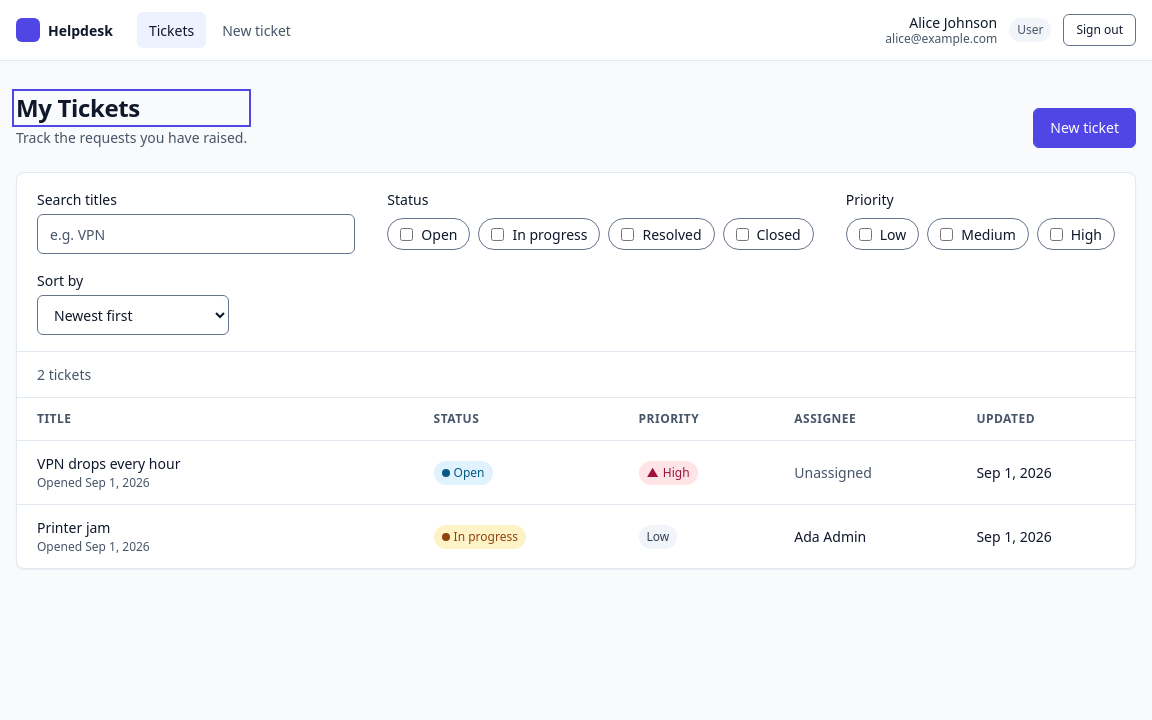
TicketListPage › debounces title search into the URL
expect the link "Printer jam" is shown: met, box [37,518,110,537]
Type "vpn" into the search field labelled "Search titles" at [196, 234], box [37,214,355,254]
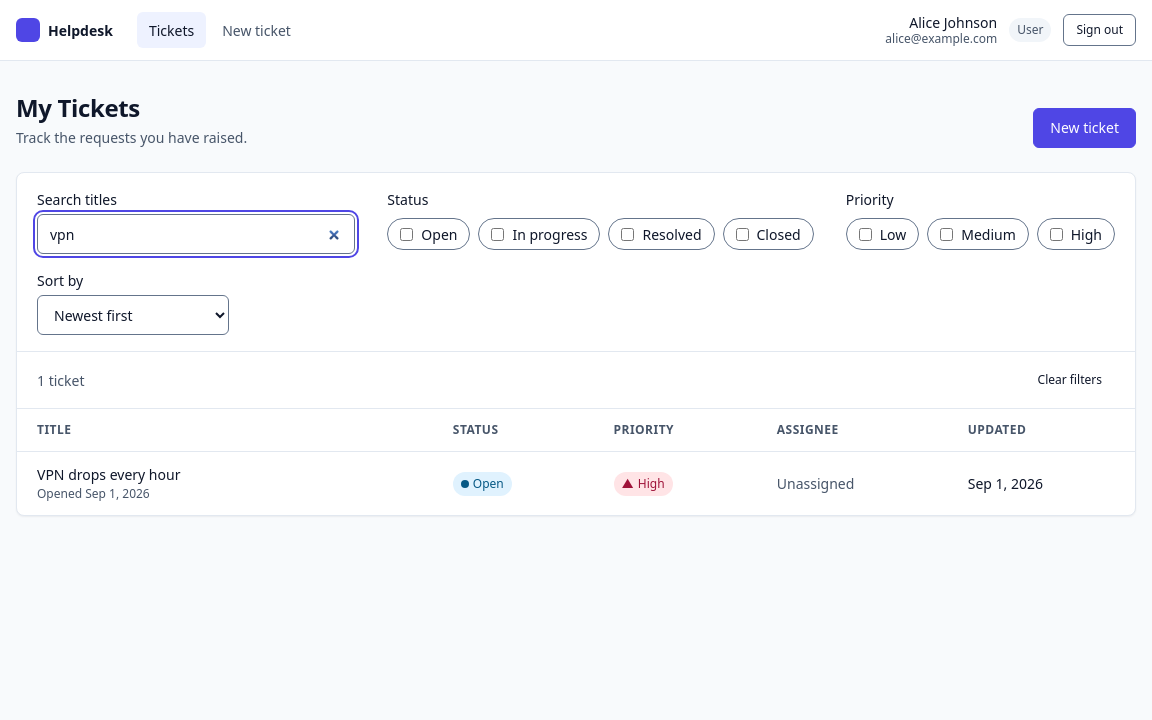
expect the link "Printer jam" is gone: met
